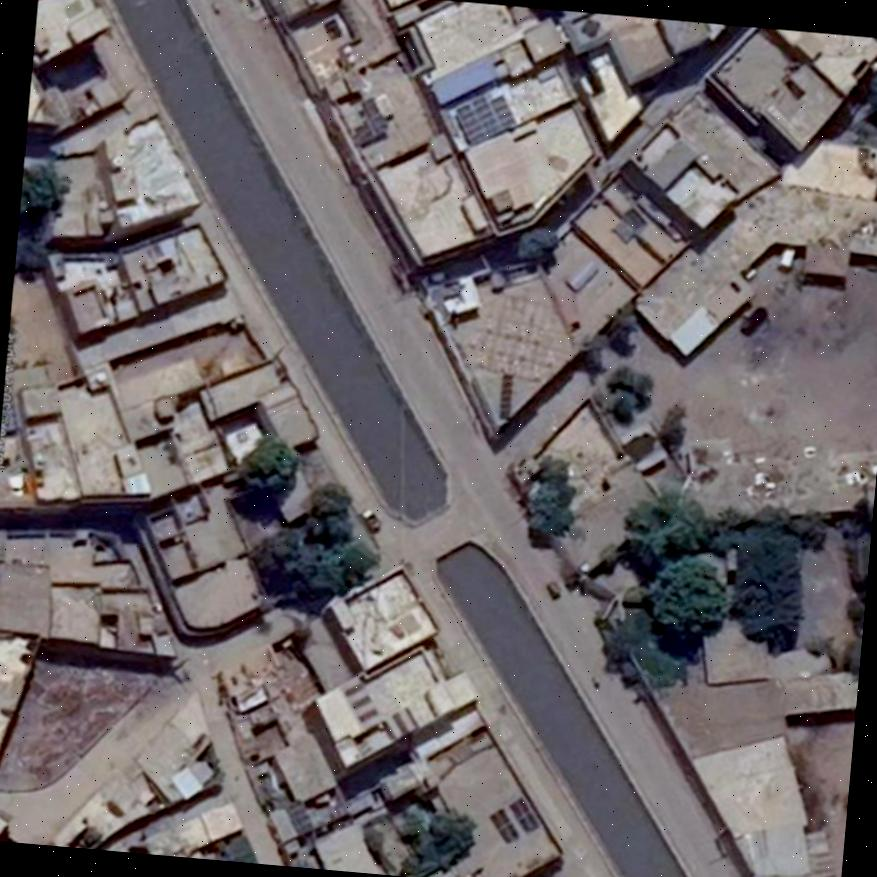Solarpanel: (453, 88, 515, 144), (487, 807, 518, 846), (506, 797, 537, 831)
